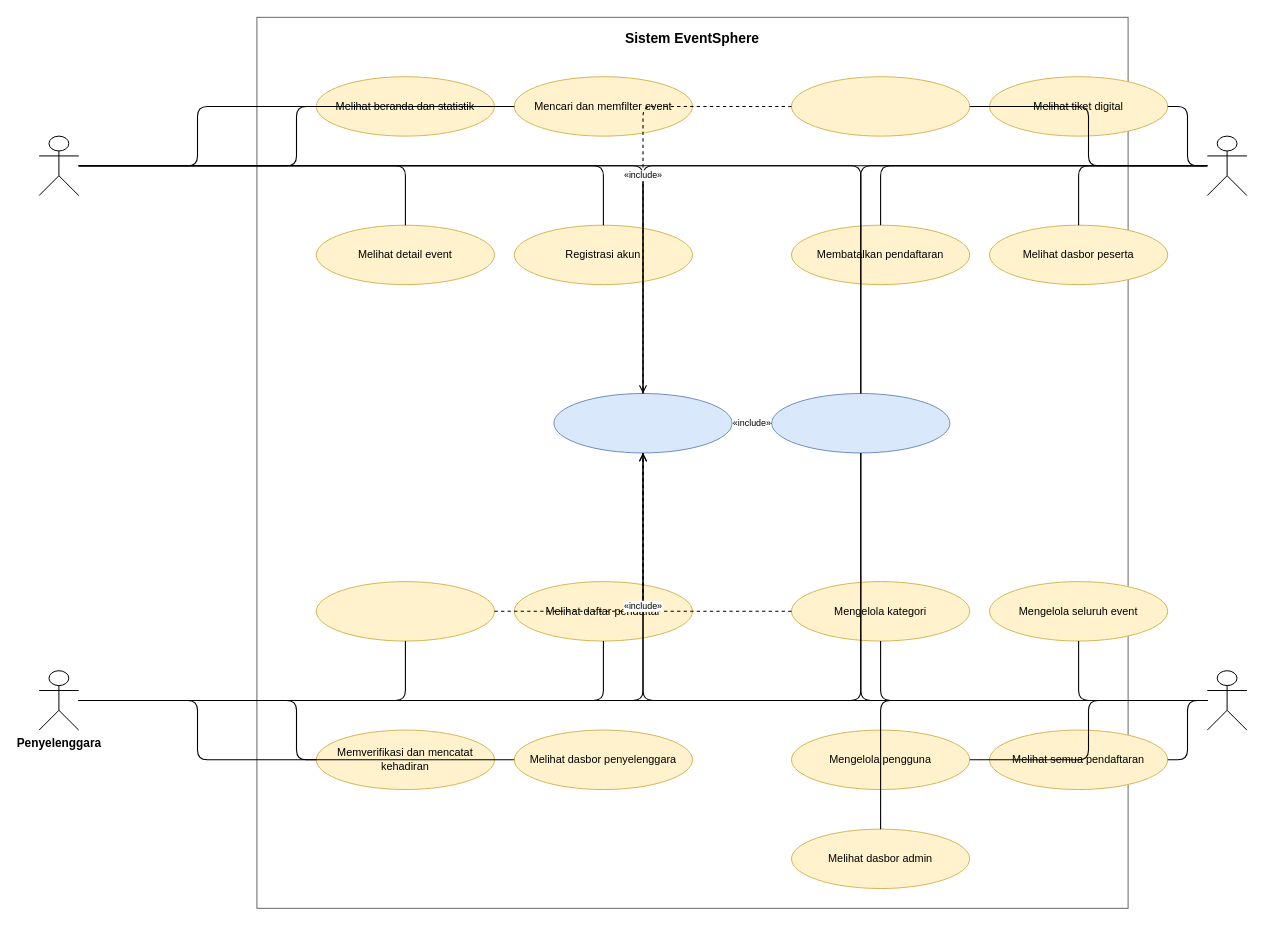
The diagram is 1283 pixels wide and 926 high, and some of its shapes have lost their labels. The centre of each missing label's shape, as x and y in pixels:
Administrator: the point at 1226,700
Login / Logout: the point at 642,423
Mendaftar event: the point at 880,106
Mengelola event sendiri: the point at 405,611
Mengelola profil: the point at 860,423
Pengunjung: the point at 58,165
Peserta: the point at 1226,165
